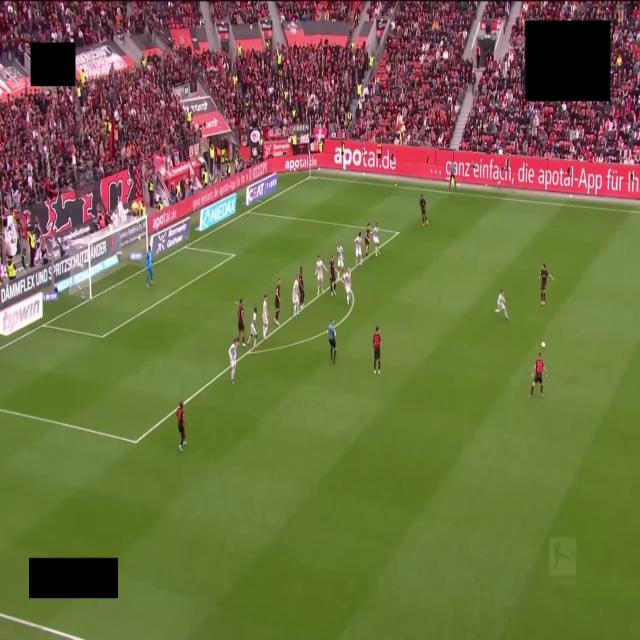ball: (541, 342, 545, 348)
player: (530, 353, 546, 397), (539, 264, 553, 305), (176, 402, 186, 451), (228, 338, 238, 383), (316, 255, 326, 295), (373, 326, 381, 374), (495, 290, 508, 319), (238, 298, 245, 346), (249, 308, 257, 347), (146, 246, 153, 287), (274, 279, 280, 326), (344, 269, 352, 304), (262, 294, 268, 340), (329, 256, 336, 295), (292, 279, 299, 318), (298, 266, 304, 309), (420, 195, 428, 226), (337, 243, 344, 278), (355, 232, 362, 266), (373, 223, 379, 256), (365, 224, 370, 259)
referee: (328, 320, 336, 364)
